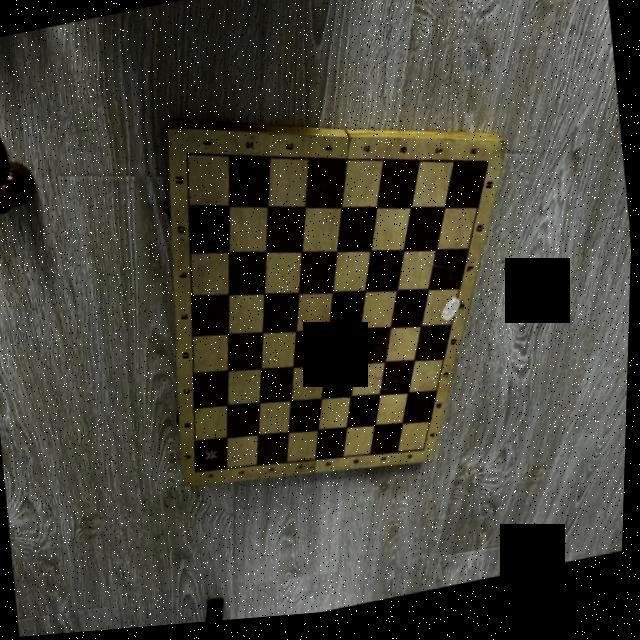chess-table-corners: (482, 162, 496, 180), (182, 150, 193, 163), (194, 468, 202, 482), (421, 452, 430, 464)
